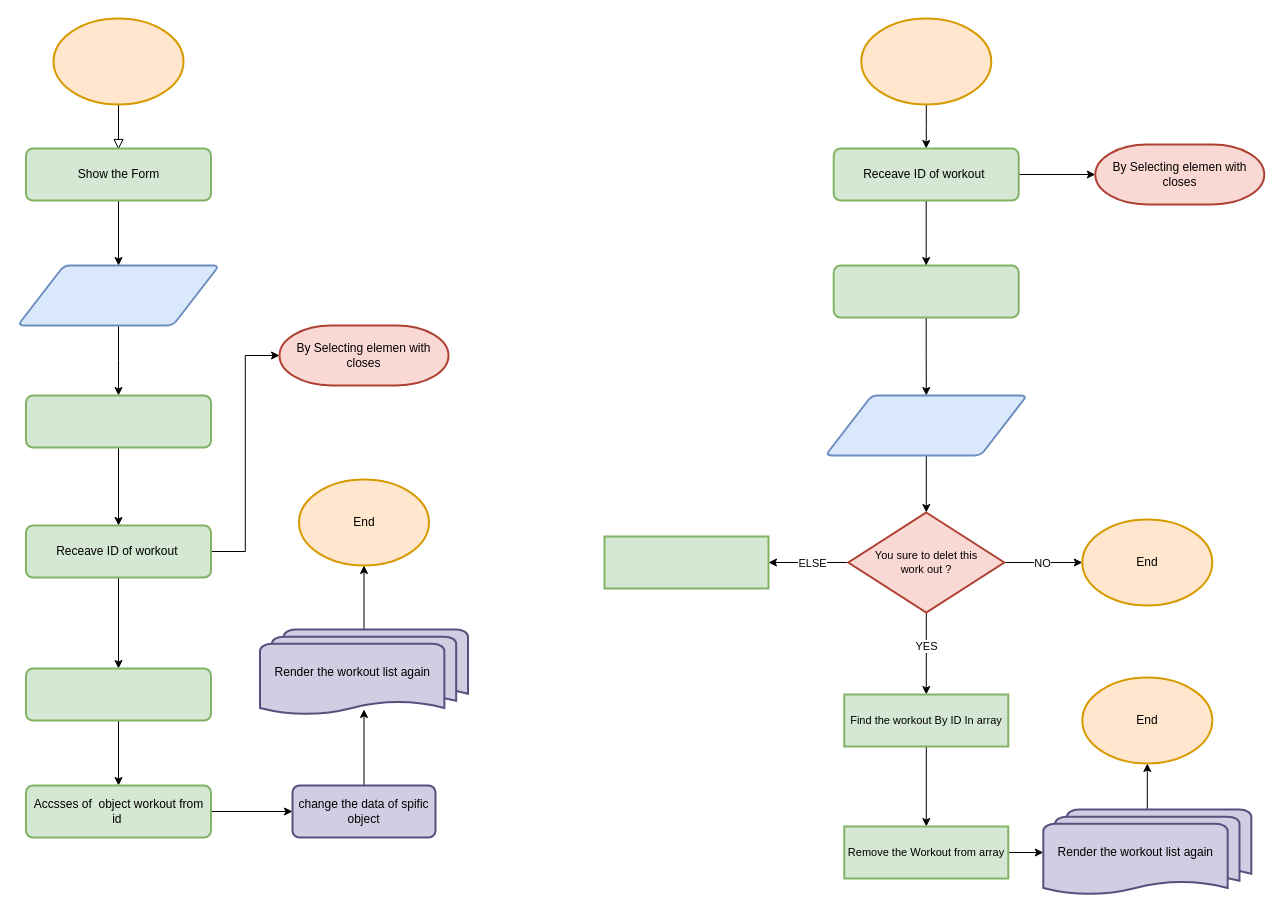
Some shapes in this 1283 by 913 pixel diagram are drawn without their labels. The centre of each missing label's shape, as x and y in pixels:
Accsses the object of workout from id: the point at 118,694
click on Edit In workout EL: the point at 118,61
cllick on Delete In workout EL: the point at 926,61
Give data info from input: the point at 118,295
Receve a boolian Y / N: the point at 926,425
Return a ALERT: the point at 686,562
Save the data in varible: the point at 118,421
Show the Promt input: the point at 925,291
